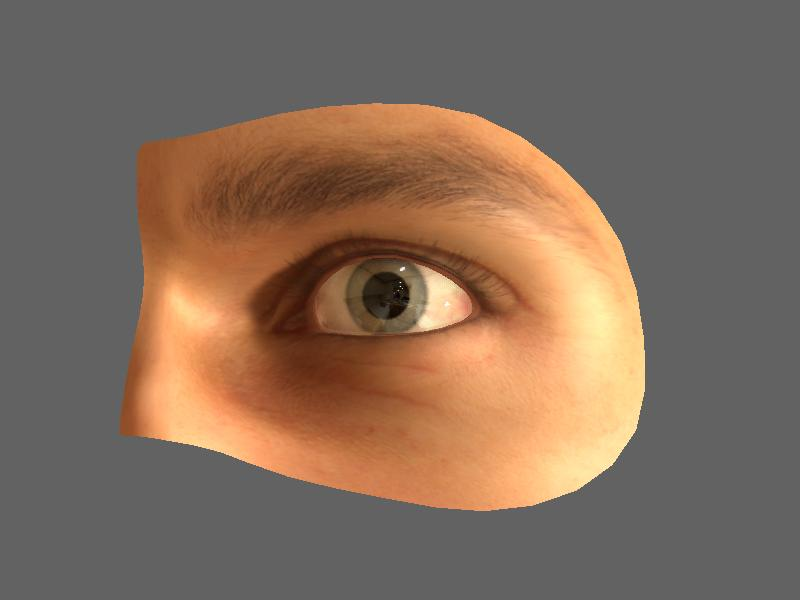iris: (349, 258, 431, 332)
